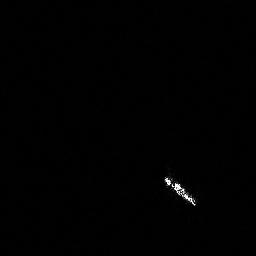ship: (158, 171, 202, 210)
